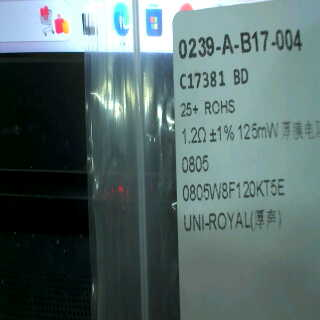1.2R: (180, 125, 210, 180)
